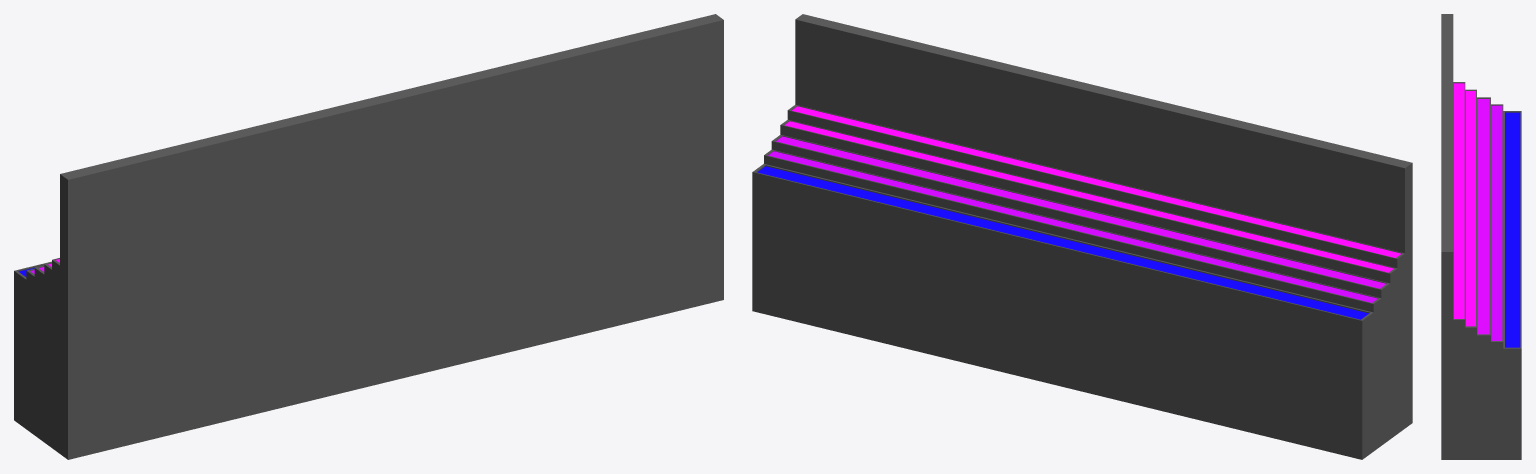
Rendered from shelves.fbx.
The picture shows the model from 3 angles, left to right: view 1: azimuth 30°, elevation 25°; view 2: azimuth 150°, elevation 25°; view 3: azimuth 270°, elevation 25°; orthographic projection. The views are drawn at different scales.
Parts seen in each view (by area): view 1: Cube; view 2: Cube; view 3: Cube.
Part boxes in pixels (left/top/right/bottom): Cube: left=14, top=14, right=723, bottom=459; Cube: left=752, top=14, right=1412, bottom=459; Cube: left=1441, top=14, right=1521, bottom=459.
Bounding box in the file's own units: 2070 × 845 × 296.
